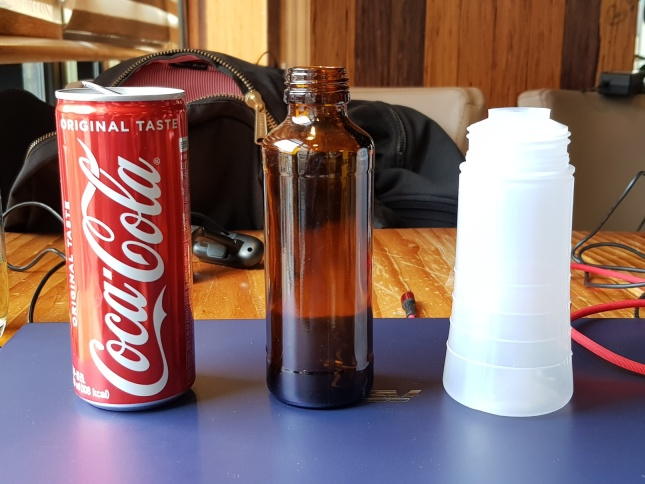Can: (48, 80, 197, 417)
Glass: (258, 59, 379, 414)
Plastic: (444, 105, 578, 418)
